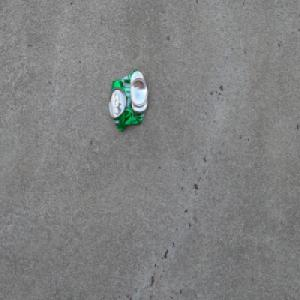SodaCan: (108, 68, 148, 132)
